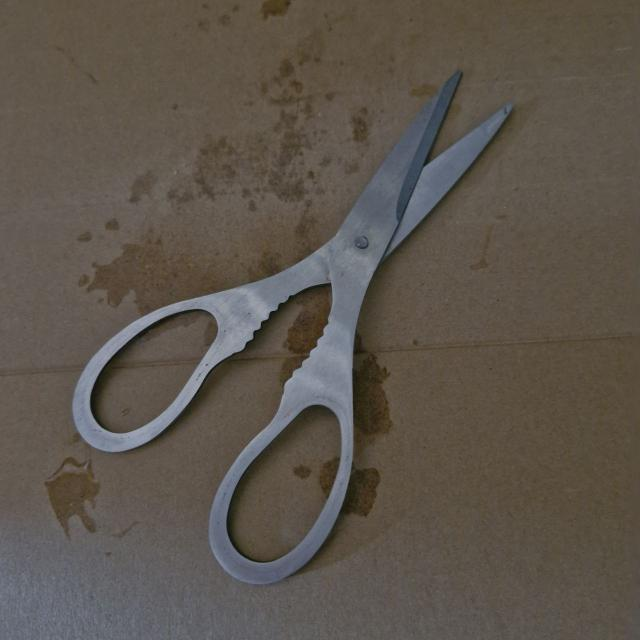metal: (64, 64, 518, 592)
